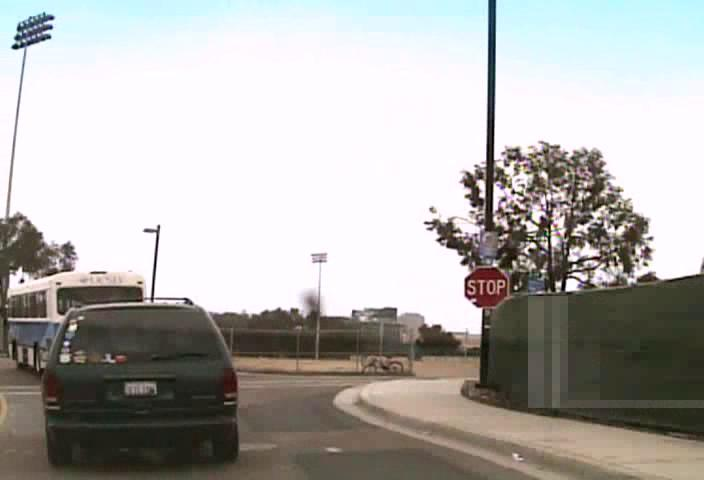stop: (463, 265, 509, 308)
